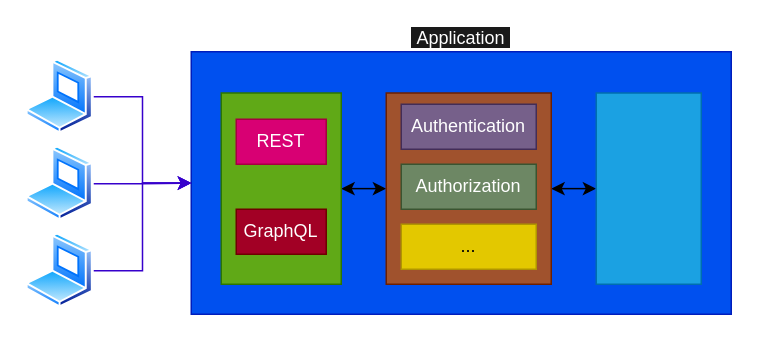
This 758x341 diagram has some shape labels left out. Here are the shapes that lost their labels. From the top down, the box of each, then its label:
(220, 92, 341, 284): APIs
(385, 92, 551, 284): Business logic
(595, 92, 701, 284): Persistence
